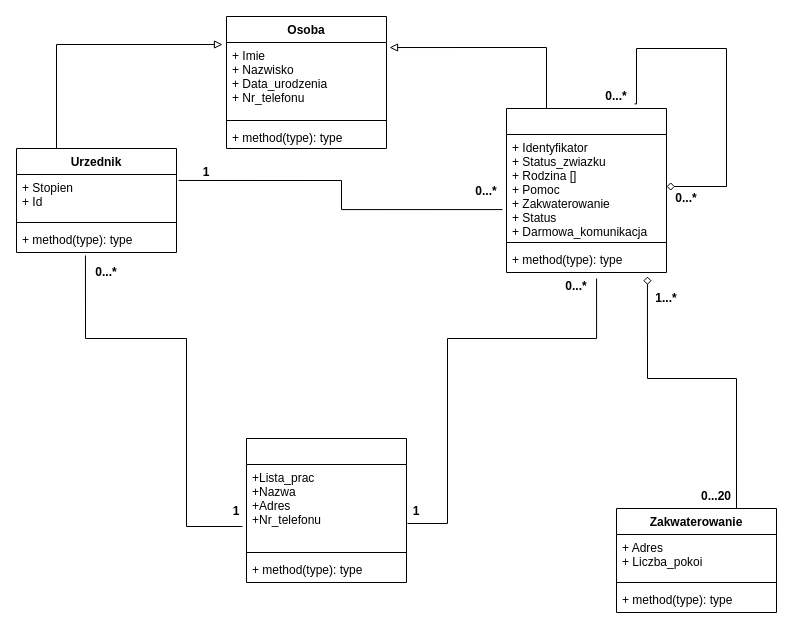
The diagram is 793 pixels wide and 629 high, and some of its shapes have lost their labels. Each missing label, with the box of its shape:
Uchodźca: (506, 108, 666, 272)
Urzad_pracy: (246, 438, 406, 582)
